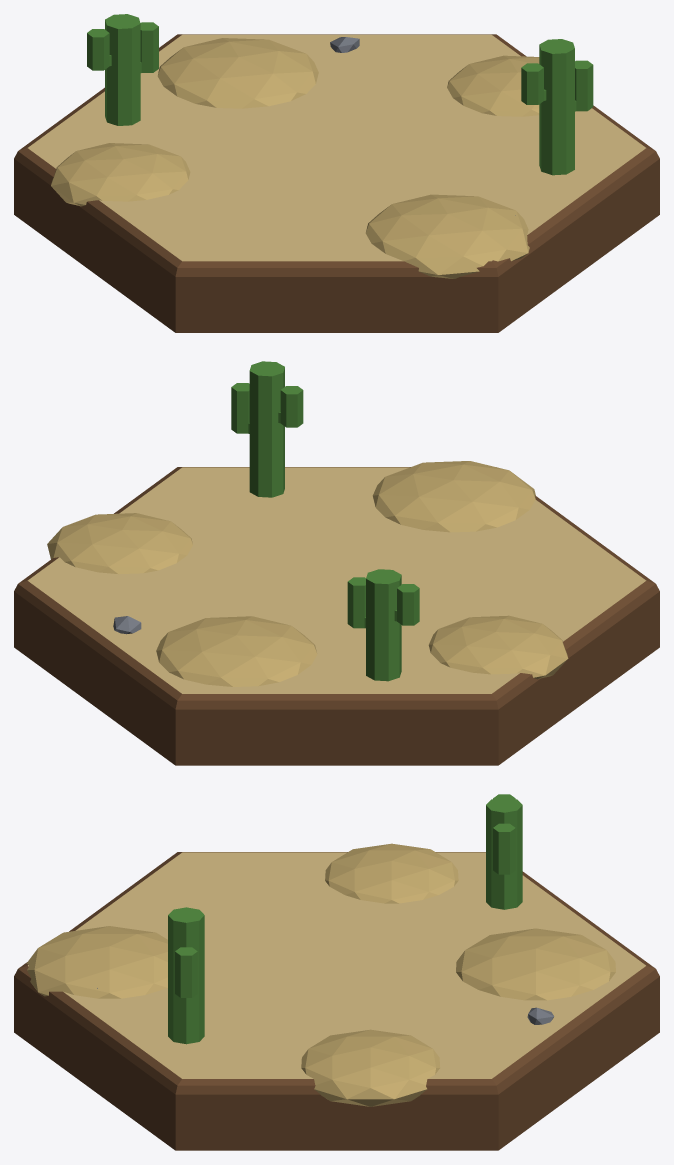
File: tile_desert.glb
3 views of the same model, one above another, from view 1: azimuth 30°, elevation 25°; view 2: azimuth 150°, elevation 25°; view 3: azimuth 270°, elevation 25° (orthographic).
Parts seen in each view (by area): view 1: tile_desert; view 2: tile_desert; view 3: tile_desert.
Part boxes in pixels (<box>): tile_desert: <box>14,14,659,332</box>; tile_desert: <box>14,361,659,765</box>; tile_desert: <box>14,794,659,1150</box>.
Bounding box in the file's own units: 1.75 × 0.62 × 1.93.
